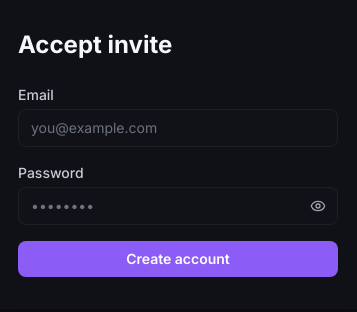
Test case: AcceptInvite page › shows error on API failure
Type "dup@example.com" into the field labelled "Email".
click(178, 128); type("dup@example.com")  # box [18,109,338,147]
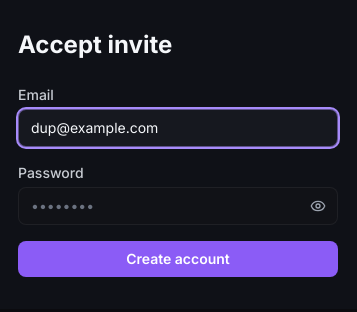
Type "password123" into the password field labelled "Password".
click(178, 206); type("password123")  # box [18,187,338,225]
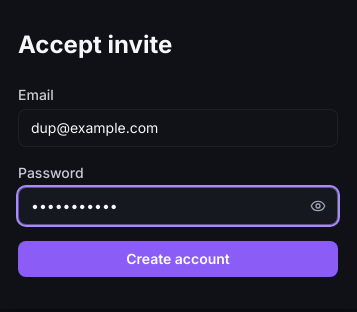
Click the button "Create account".
click(178, 259)  # box [18,241,338,277]
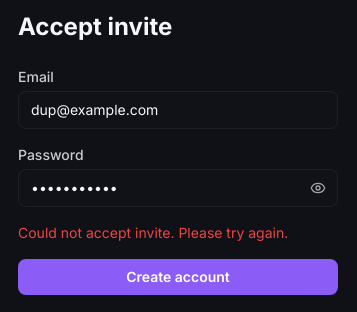
Expected: the message shows "Could not accept invite", [18,224,288,241]
